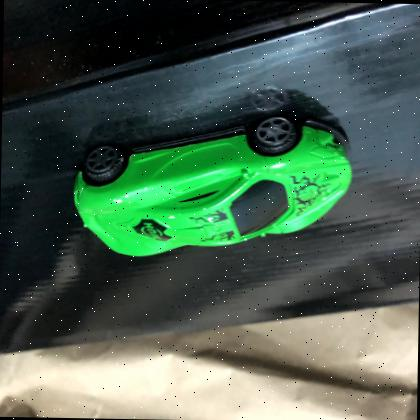Car: (72, 113, 352, 256)
